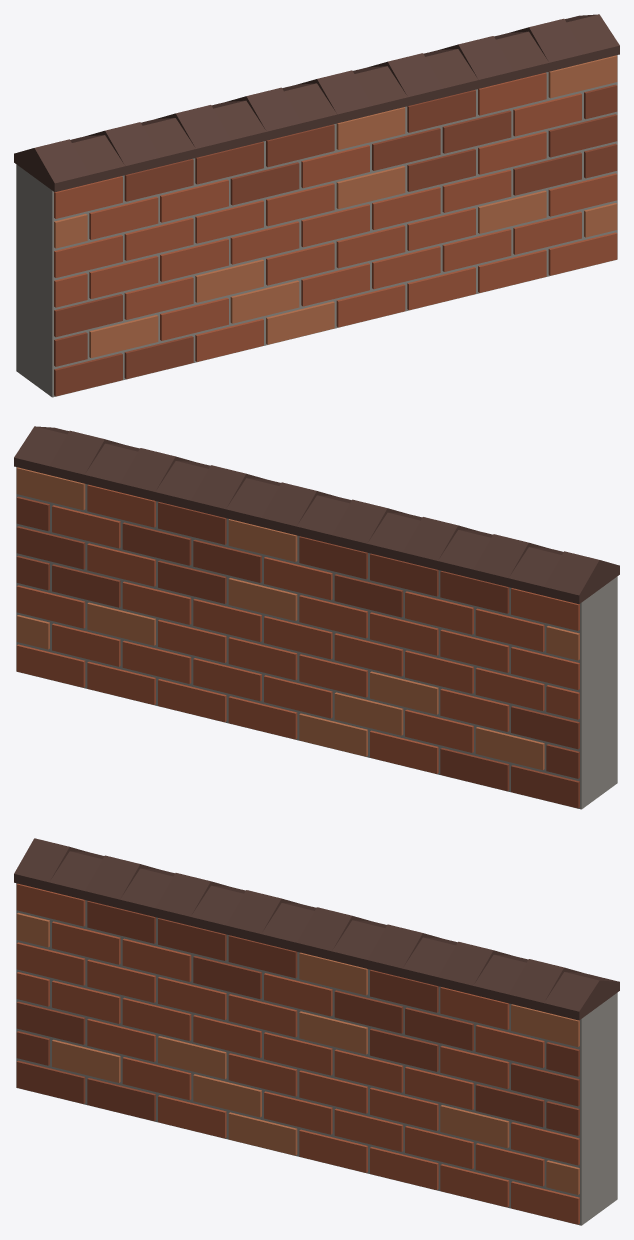
The model's file is wall_brick.glb.
3 renders of one model, top to bottom at view 1: azimuth 30°, elevation 25°; view 2: azimuth 150°, elevation 25°; view 3: azimuth 330°, elevation 25°, orthographic.
Parts seen in each view (by area): view 1: wall_bricks, wall_core-col; view 2: wall_bricks, wall_core-col; view 3: wall_bricks, wall_core-col.
Part boxes in pixels (x1,y1,x2,y2): wall_bricks: (54, 55, 617, 396); wall_core-col: (14, 14, 619, 397); wall_bricks: (16, 467, 579, 808); wall_core-col: (14, 426, 619, 809); wall_bricks: (16, 883, 579, 1224); wall_core-col: (14, 838, 619, 1225).
Bounding box in the file's own units: 4 × 1.6 × 0.5.
